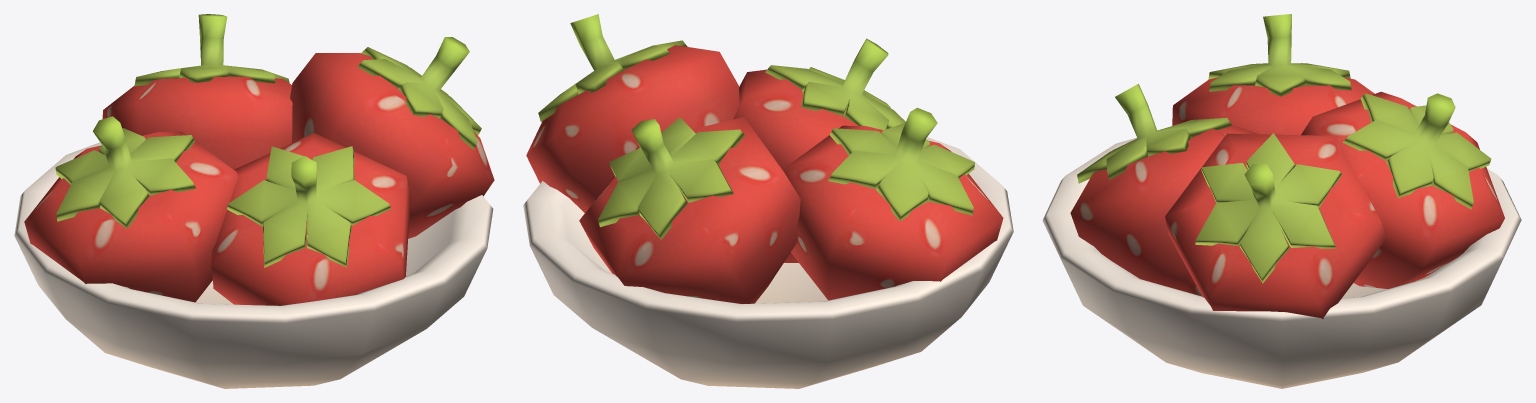
File: Homestead_cm_5.fbx
The picture shows the model from 3 angles, left to right: view 1: azimuth 30°, elevation 25°; view 2: azimuth 150°, elevation 25°; view 3: azimuth 270°, elevation 25°; orthographic projection. The views are drawn at different scales.
Parts seen in each view (by area): view 1: Homestead_cm_5; view 2: Homestead_cm_5; view 3: Homestead_cm_5.
Boxes of the visible parts, x1=… form: Homestead_cm_5: x1=14, y1=14, x2=494, y2=388; Homestead_cm_5: x1=523, y1=14, x2=1013, y2=388; Homestead_cm_5: x1=1042, y1=14, x2=1521, y2=388.
Bounding box in the file's own units: 62.67 × 37.33 × 61.4.
